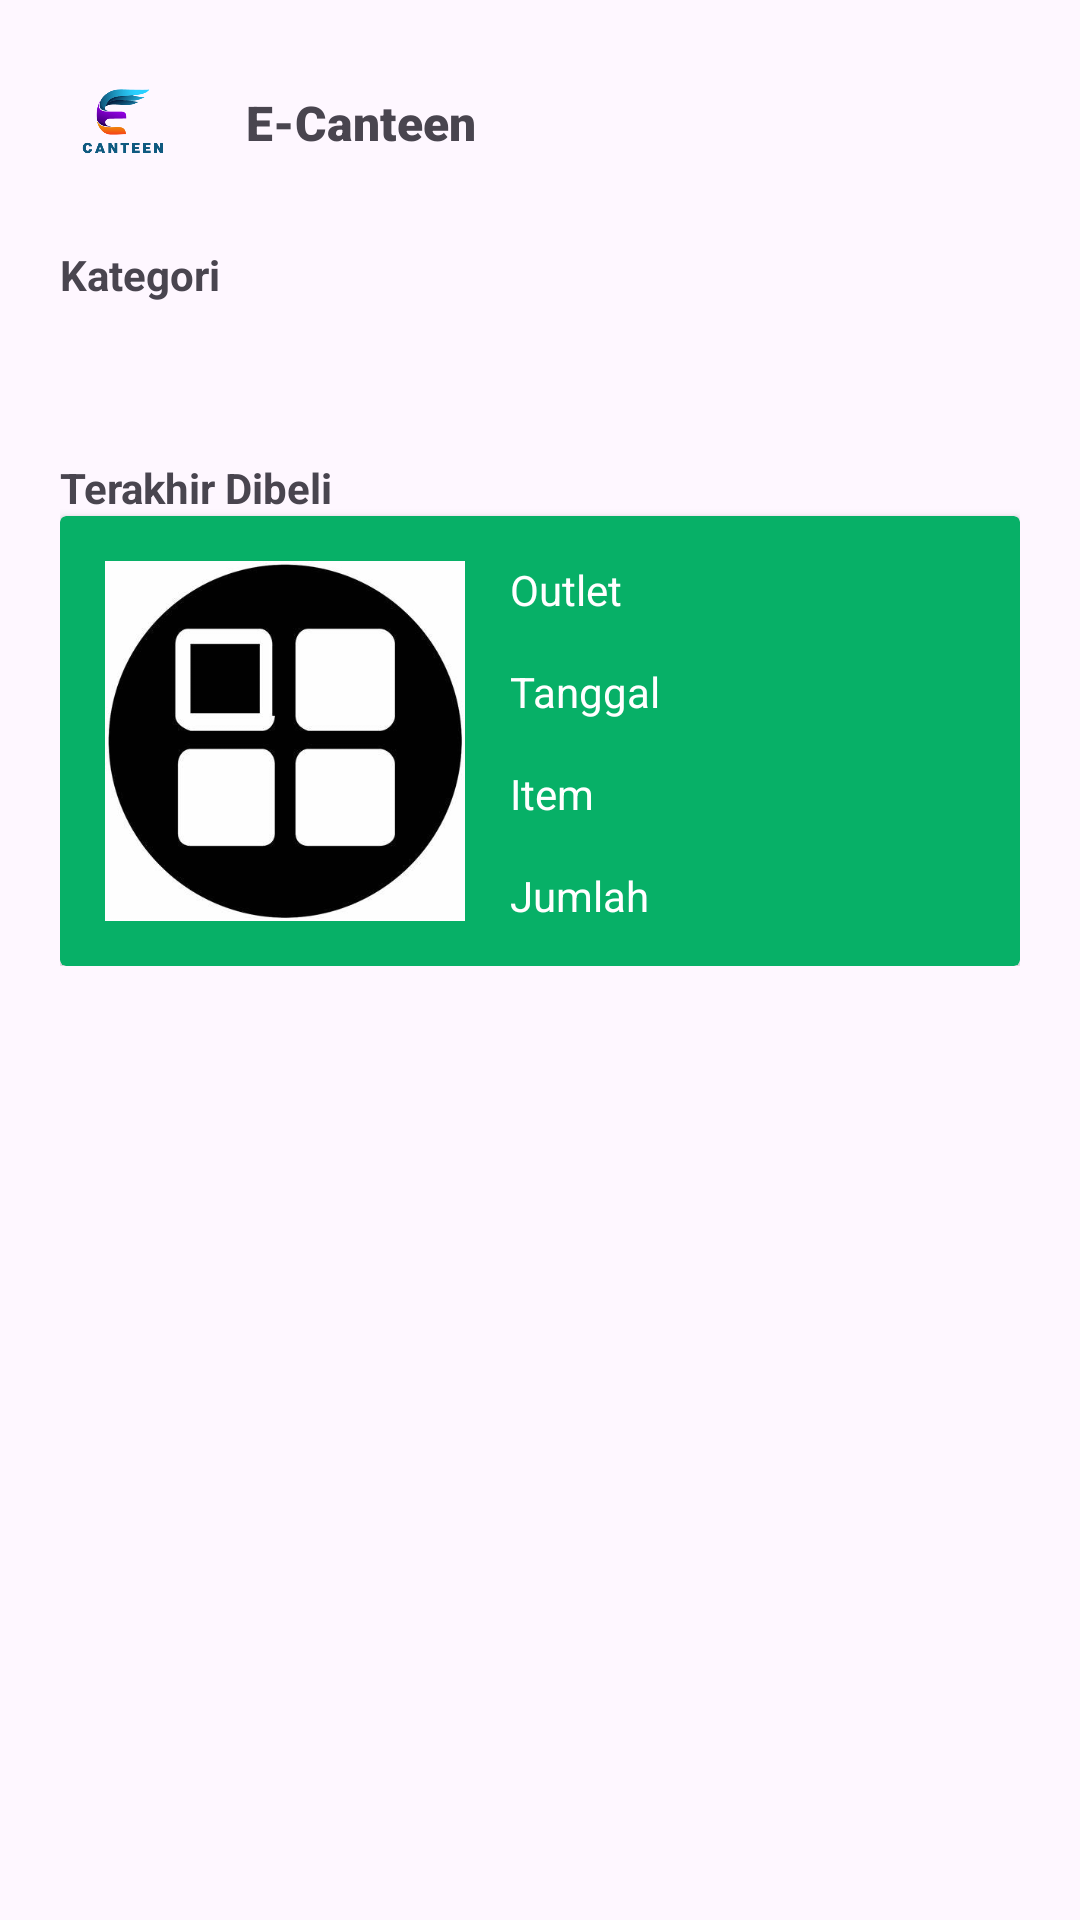

Named icons in this screenshot (1080×1920) and their centers, (x=x, y=y):
category: (x=285, y=741)
